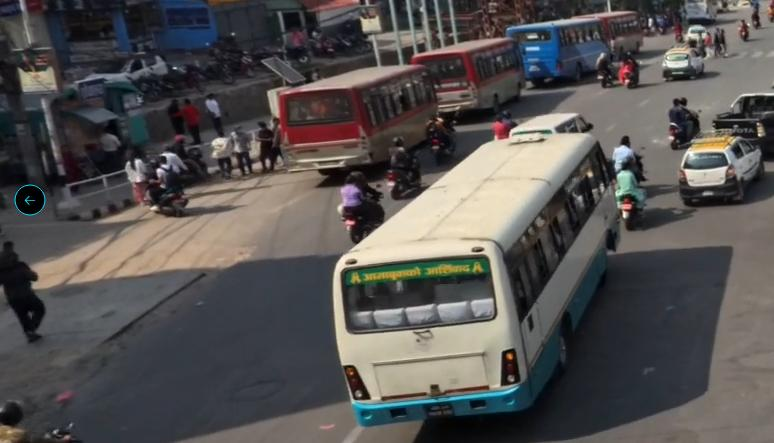bus: (329, 129, 628, 431), (271, 61, 441, 174), (409, 34, 533, 119)
taxi: (676, 133, 762, 204)
